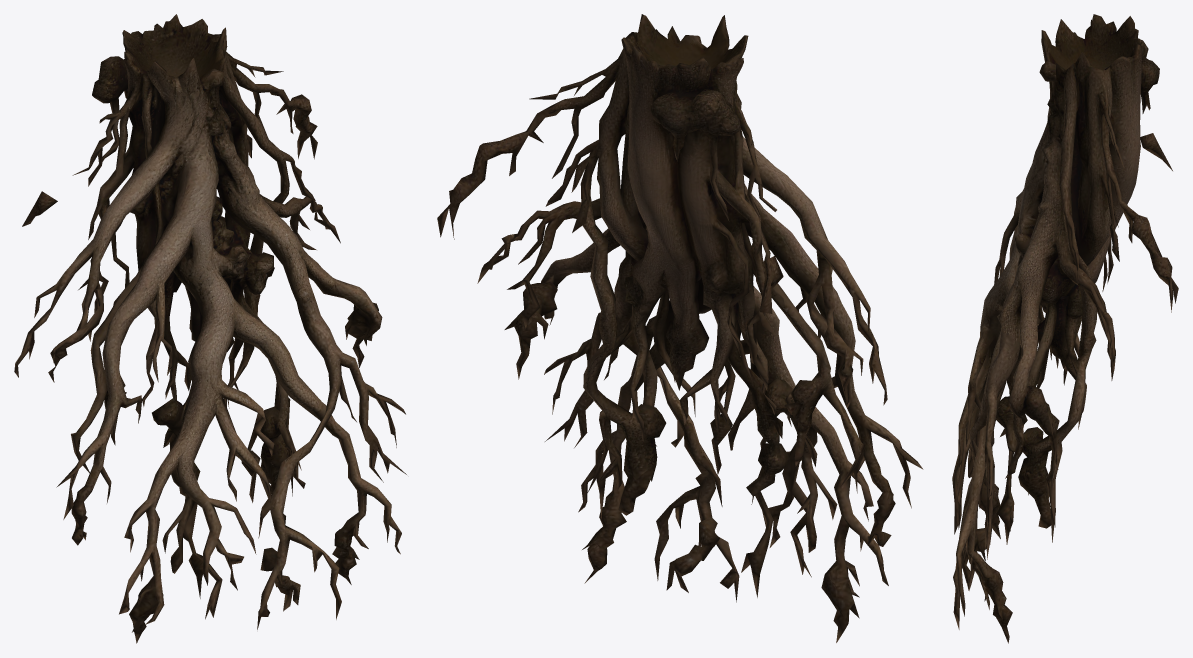
File: roots.glb
3 renders of one model, left to right at view 1: azimuth 30°, elevation 25°; view 2: azimuth 150°, elevation 25°; view 3: azimuth 270°, elevation 25°, orthographic. The views are drawn at different scales.
Parts seen in each view (by area): view 1: tripo_node_bbc1a173-9006-4bcc-9123-8cea43377bb7; view 2: tripo_node_bbc1a173-9006-4bcc-9123-8cea43377bb7; view 3: tripo_node_bbc1a173-9006-4bcc-9123-8cea43377bb7.
Boxes of the visible parts, x1,y1,x2,y2 form: tripo_node_bbc1a173-9006-4bcc-9123-8cea43377bb7: (14,14,406,643); tripo_node_bbc1a173-9006-4bcc-9123-8cea43377bb7: (437,14,923,642); tripo_node_bbc1a173-9006-4bcc-9123-8cea43377bb7: (952,14,1178,643).
Bounding box in the file's own units: 1.05 × 1.6 × 0.5919.
Materials: 1 (1 with a texture image).
